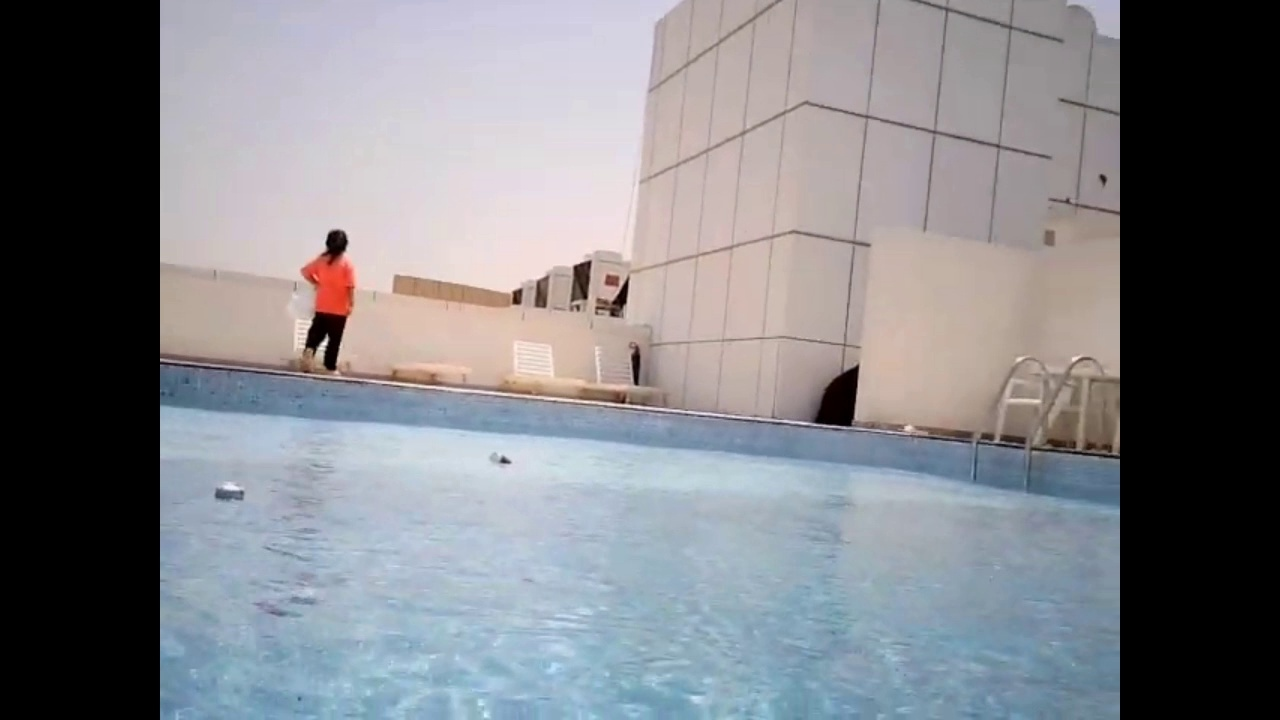debris: (207, 477, 250, 505), (480, 447, 516, 470)
